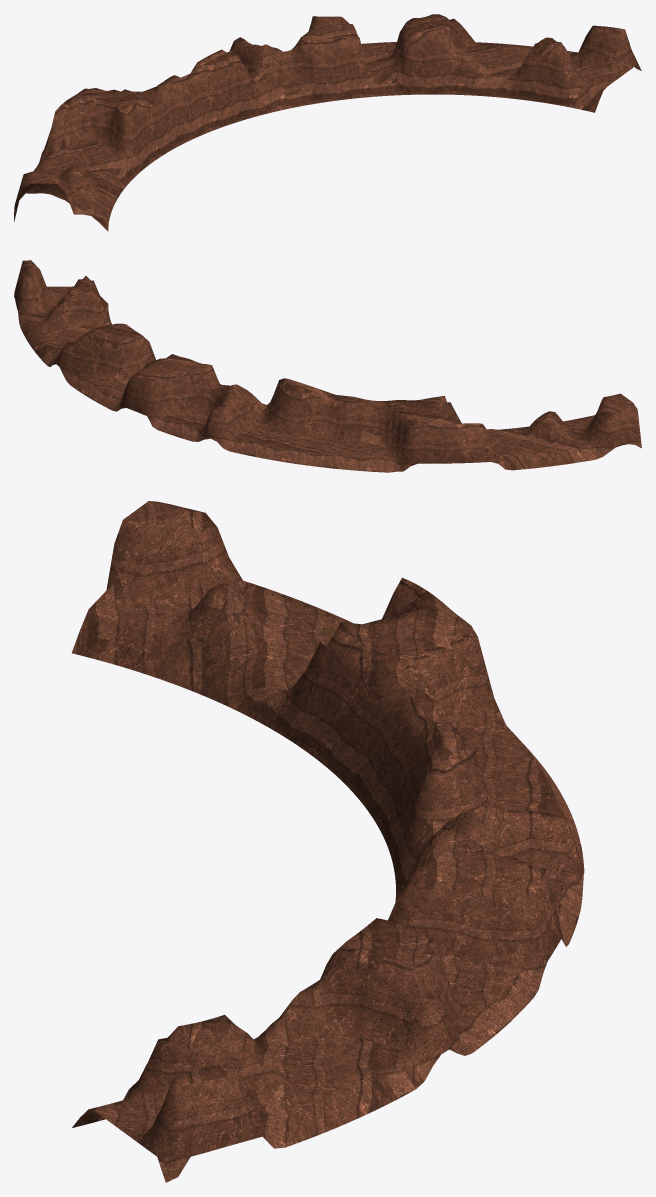
Rendered from mesa_backdrop.glb.
3 views of the same model, one above another, from view 1: azimuth 30°, elevation 25°; view 2: azimuth 150°, elevation 25°; view 3: azimuth 270°, elevation 25° (orthographic). The views are drawn at different scales.
Parts seen in each view (by area): view 1: mesa_backdrop; view 2: mesa_backdrop; view 3: mesa_backdrop.
Part boxes in pixels (x1=…): mesa_backdrop: x1=14, y1=14, x2=641, y2=231; mesa_backdrop: x1=14, y1=260, x2=641, y2=472; mesa_backdrop: x1=72, y1=501, x2=584, y2=1182.
Size of the model in its own units: 1386 by 126 by 490.
1 material, 1 textured.
